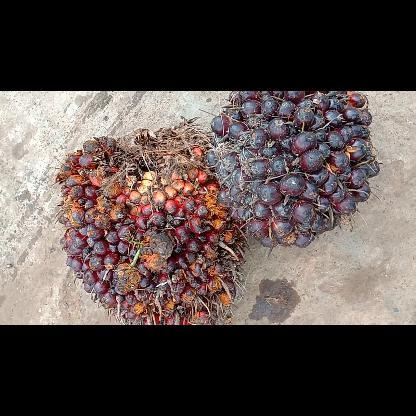TBS masak: (55, 119, 247, 324)
TBS mentah: (204, 90, 379, 248)
